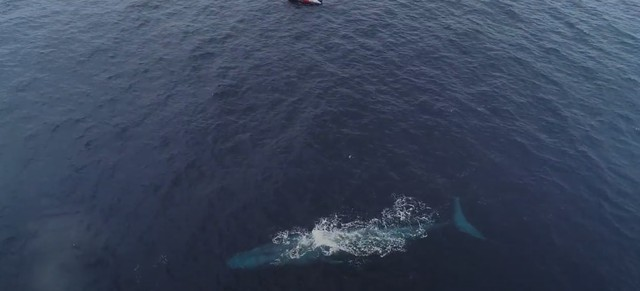whale: (217, 190, 494, 280)
